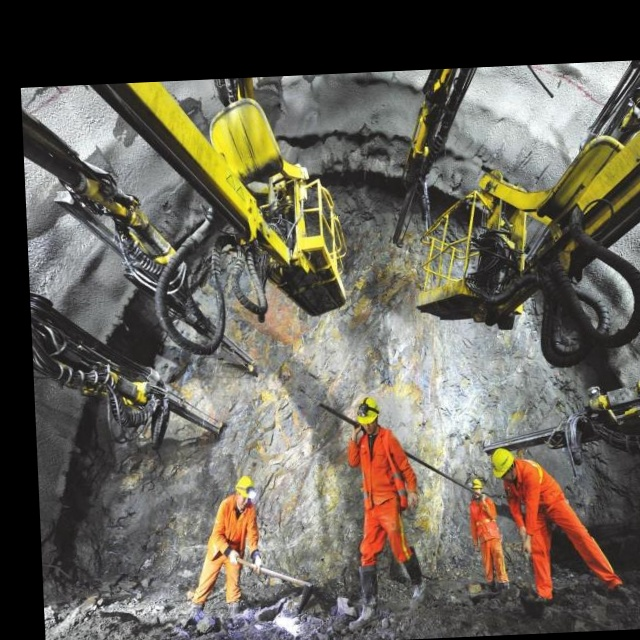Con_Casco: (490, 445, 515, 486), (356, 395, 381, 428), (236, 474, 257, 506)
Con_Chaleco: (356, 429, 404, 512)
